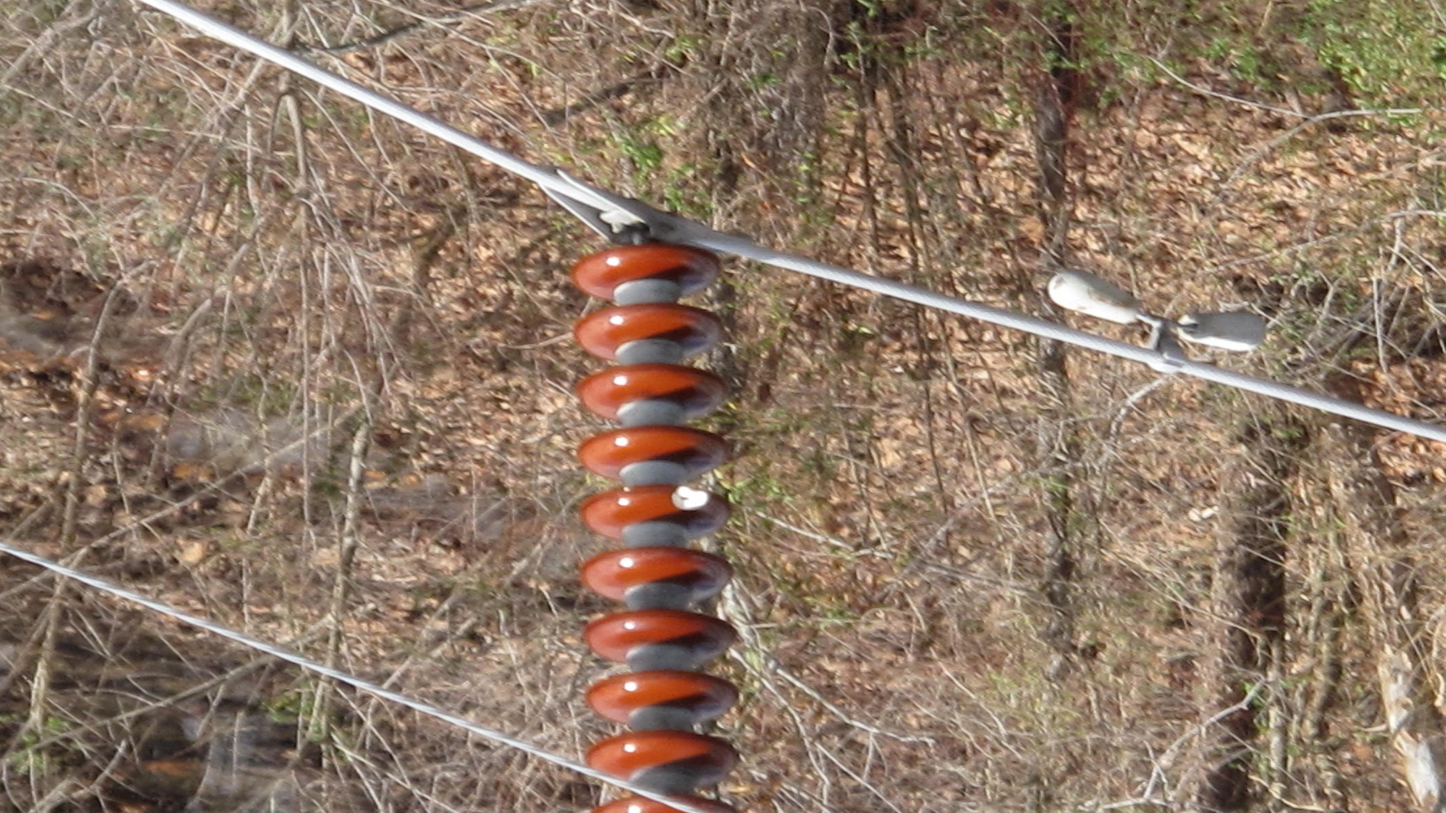insulator: (562, 236, 749, 813)
insulator_breakage: (667, 481, 715, 516)
